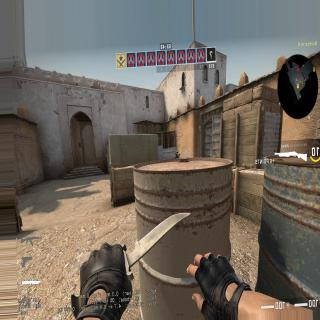CT-Body: (174, 150, 180, 158)
CT-Head: (176, 150, 178, 152)
